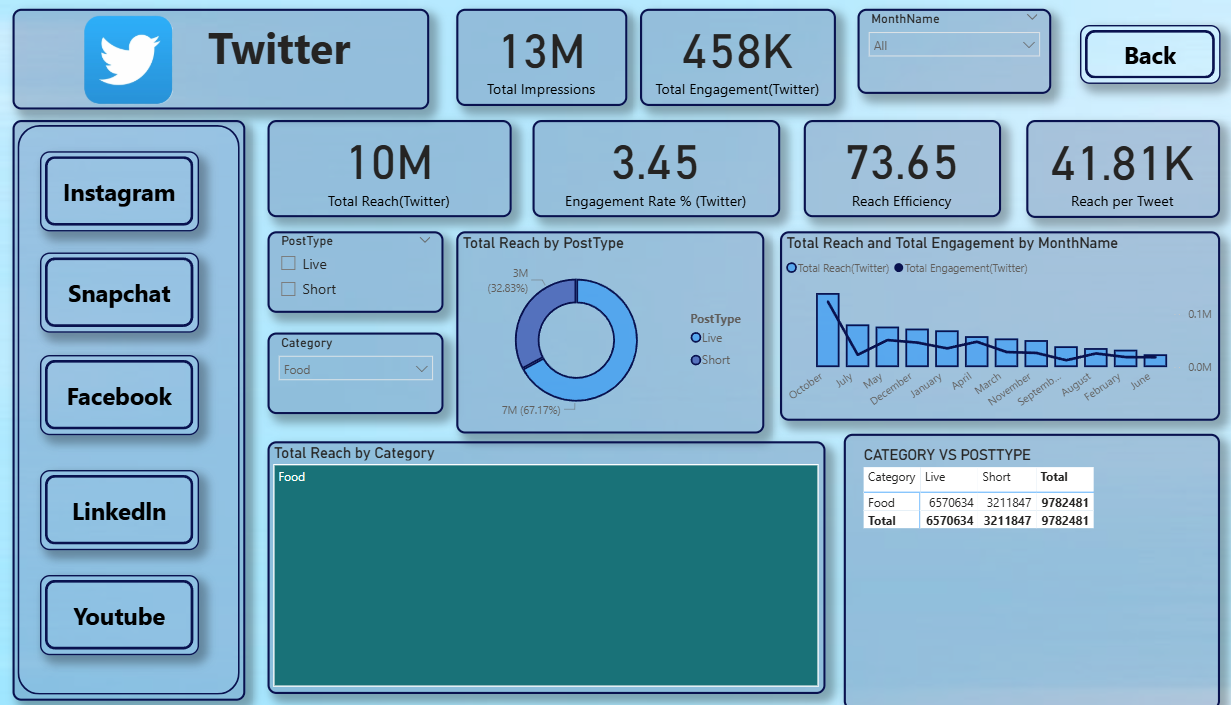

The page's visual inventory and layout, read from the dashboard file:
{"tool":"powerbi","page":{"name":"Twitter","canvas":[1400,800],"ordinal":4},"visuals":[{"type":"textbox","box":[19.4,9.7,469.4,113.9],"z":0},{"type":"image","box":[0,0,300,134.7],"z":1000},{"type":"card","fields":{"Values":["Twitter_Data.Total Reach(Twitter)"]},"box":[306.9,134.7,275,109.7],"z":2000},{"type":"card","fields":{"Values":["Twitter_Data.Total Impressions"]},"box":[519.4,9.7,193.1,109.7],"z":3000},{"type":"card","fields":{"Values":["Twitter_Data.Engagement Rate % (Twitter)"]},"box":[605.6,134.7,279.2,109.7],"z":4000},{"type":"card","fields":{"Values":["Twitter_Data.Avg Reach per Tweet"]},"box":[911.1,134.7,222.2,109.7],"z":5000},{"type":"card","fields":{"Values":["Twitter_Data.Reach per Tweet"]},"box":[1162.5,134.7,218.1,110],"z":6000},{"type":"lineClusteredColumnComboChart","title":"Total Reach and Total Engagement by MonthName","fields":{"Category":["Twitter_Data.MonthName"],"Y":["Twitter_Data.Total Reach(Twitter)"],"Y2":["Twitter_Data.Total Engagement(Twitter)"]},"box":[884.7,261.1,495.8,213.9],"z":7000},{"type":"card","fields":{"Values":["Twitter_Data.Total Engagement(Twitter)"]},"box":[726.4,9.7,220.8,109.7],"z":8000},{"type":"donutChart","title":"Total Reach by PostType","fields":{"Category":["Twitter_Data.PostType"],"Y":["Twitter_Data.Total Reach(Twitter)"]},"box":[519.4,261.1,347.2,227.8],"z":9000},{"type":"treemap","title":"Total Reach by Category","fields":{"Values":["Twitter_Data.Total Reach(Twitter)"],"Group":["Twitter_Data.Category"]},"box":[306.9,497.2,629.2,284.7],"z":10000},{"type":"pivotTable","title":"CATEGORY VS POSTTYPE","fields":{"Rows":["Twitter_Data.Category"],"Columns":["Twitter_Data.PostType"],"Values":["Twitter_Data.Total Reach(Twitter)"]},"box":[956.9,488.9,423.6,311.1],"z":11000},{"type":"slicer","fields":{"Values":["Twitter_Data.MonthName"]},"box":[972.2,9.7,218.1,95.8],"z":12000},{"type":"slicer","fields":{"Values":["Twitter_Data.PostType"]},"box":[306.9,261.1,198.6,91.7],"z":13000},{"type":"slicer","fields":{"Values":["Twitter_Data.Category"]},"box":[306.9,375,198.6,91.7],"z":14000},{"type":"shape","box":[19.4,134.7,262.5,654.2],"z":15000},{"type":"actionButton","box":[50,170.8,179.2,90.3],"z":16000},{"type":"actionButton","box":[50,284.7,179.2,90.3],"z":17000},{"type":"actionButton","box":[51.4,400,179.2,90.3],"z":18000},{"type":"actionButton","box":[50,529.2,179.2,90.3],"z":19000},{"type":"actionButton","box":[50,647.2,179.2,90.3],"z":20000},{"type":"actionButton","box":[1222.2,27.8,158.3,66.7],"z":21000}]}

Visuals, with their boxes in screenshot pixels (x1, y1, x2, y2), scaled from the page's 1400x800 canvas onto the 1231x705 screenshot:
textbox: 17, 9, 430, 109
image: 0, 0, 264, 119
card - Twitter_Data.Total Reach(Twitter): 270, 119, 512, 215
card - Twitter_Data.Total Impressions: 457, 9, 626, 105
card - Twitter_Data.Engagement Rate % (Twitter): 532, 119, 778, 215
card - Twitter_Data.Avg Reach per Tweet: 801, 119, 996, 215
card - Twitter_Data.Reach per Tweet: 1022, 119, 1214, 216
"Total Reach and Total Engagement by MonthName" lineClusteredColumnComboChart: 778, 230, 1214, 419
card - Twitter_Data.Total Engagement(Twitter): 639, 9, 833, 105
"Total Reach by PostType" donutChart: 457, 230, 762, 431
"Total Reach by Category" treemap: 270, 438, 823, 689
"CATEGORY VS POSTTYPE" pivotTable: 841, 431, 1214, 704
slicer - Twitter_Data.MonthName: 855, 9, 1047, 93
slicer - Twitter_Data.PostType: 270, 230, 444, 311
slicer - Twitter_Data.Category: 270, 330, 444, 411
shape: 17, 119, 248, 695
actionButton: 44, 151, 202, 230
actionButton: 44, 251, 202, 330
actionButton: 45, 352, 203, 432
actionButton: 44, 466, 202, 546
actionButton: 44, 570, 202, 650
actionButton: 1075, 24, 1214, 83
